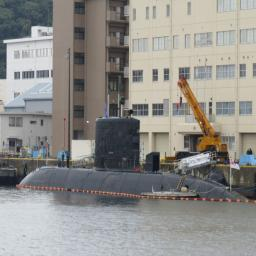submarine: (13, 115, 253, 201)
